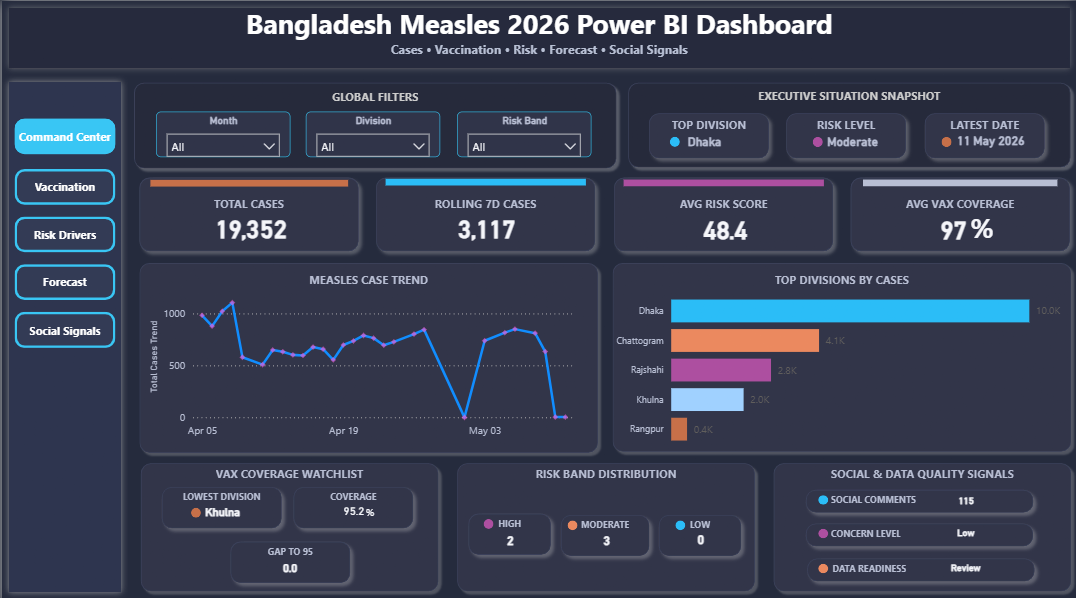

The dashboard page shown, as its layout file describes it:
{"tool":"powerbi","page":{"name":"Command Center","canvas":[1280,720],"ordinal":0},"visuals":[{"type":"shape","box":[150,90,588.9,116.7],"z":0},{"type":"shape","box":[0,0,1279.4,88.2],"z":1000},{"type":"textbox","box":[0,0,1279.4,76.5],"z":2000},{"type":"shape","box":[0,88.8,150,623.8],"z":3000},{"type":"actionButton","box":[15,140,120,42.5],"z":4000},{"type":"actionButton","box":[15,200.6,120,42.5],"z":5000},{"type":"actionButton","box":[15,256.9,120,42.5],"z":6000},{"type":"actionButton","box":[15,313.1,120,42.5],"z":7000},{"type":"actionButton","box":[15,370.6,120,43.1],"z":8000},{"type":"slicer","title":"Month","fields":{"Values":["Dim Date.month_name"]},"box":[183.3,132.2,160,54.4],"z":10000},{"type":"slicer","title":"Division ","fields":{"Values":["Dim Division.division"]},"box":[362.2,132.2,160,54.4],"z":11000},{"type":"slicer","title":"Risk Band","fields":{"Values":["Dim Division.Risk Band"]},"box":[541.1,132.2,160,54.4],"z":12000},{"type":"shape","title":"TOTAL CASES","box":[155,201.7,278.3,105],"z":13000},{"type":"shape","box":[720,201,278.3,105],"z":14000},{"type":"shape","box":[436.7,201,278.3,105],"z":15000},{"type":"shape","box":[1001.7,201,278.3,105],"z":16000},{"type":"shape","box":[176.2,180,235.4,73.8],"z":17000},{"type":"shape","box":[739.2,180,238.5,73.1],"z":18000},{"type":"shape","box":[1024.6,180,231.5,73.1],"z":19000},{"type":"shape","box":[456.9,178.5,238.5,74.6],"z":20000},{"type":"advanceCardE03760C5AB684758B56AA29F9E6C257B","fields":{"mainMeasure":["_Measures.Total Cases"]},"box":[170,243.8,253.1,57.7],"z":21000},{"type":"advanceCardE03760C5AB684758B56AA29F9E6C257B","fields":{"mainMeasure":["_Measures.Rolling 7D Cases"]},"box":[444.6,243.8,263.8,57.7],"z":22000},{"type":"advanceCardE03760C5AB684758B56AA29F9E6C257B","fields":{"mainMeasure":["_Measures.Average Risk Score"]},"box":[730.8,245.4,262.3,56.2],"z":23000},{"type":"advanceCardE03760C5AB684758B56AA29F9E6C257B","fields":{"mainMeasure":["_Measures.Avg Vaccination Coverage"]},"box":[993.1,245.4,278.5,56.2],"z":24000},{"type":"textbox","box":[1130,243.3,91.7,116.7],"z":25000},{"type":"shape","box":[157.1,305,560,240],"z":26000},{"type":"lineChart","fields":{"Category":["Dim Date.date"],"Y":["_Measures.Total Cases Trend"]},"box":[170,332.9,525.7,195.7],"z":27000},{"type":"shape","box":[720,305.7,560,238.6],"z":28000},{"type":"clusteredBarChart","fields":{"Category":["Dim Division.division"],"Y":["_Measures.Total Cases"]},"box":[721.7,328.3,543.3,215],"z":29000},{"type":"shape","box":[738.9,90,541.1,115.6],"z":30000},{"type":"shape","box":[761.1,124.4,160,71.1],"z":31000},{"type":"shape","box":[925.6,124.4,160,71.1],"z":32000},{"type":"shape","box":[1090,124.4,160,71.1],"z":33000},{"type":"advanceCardE03760C5AB684758B56AA29F9E6C257B","fields":{"mainMeasure":["_Measures.Top Division by Cases"]},"box":[795.4,153.8,83.1,28.5],"z":34000},{"type":"advanceCardE03760C5AB684758B56AA29F9E6C257B","fields":{"mainMeasure":["_Measures.Executive Risk Level"]},"box":[960.8,148.5,106.2,38.5],"z":35000},{"type":"advanceCardE03760C5AB684758B56AA29F9E6C257B","fields":{"mainMeasure":["_Measures.Latest Reporting Date"]},"box":[1118.5,140,118.5,52.3],"z":36000},{"type":"shape","box":[795.4,162.3,12,12],"z":37000},{"type":"shape","box":[965.4,161.5,12.3,12.3],"z":38000},{"type":"shape","box":[1118.5,162.3,12.3,12.3],"z":39000},{"type":"shape","box":[158.3,543.3,368.3,166.7],"z":40000},{"type":"shape","box":[535,543,368.3,166.7],"z":41000},{"type":"shape","box":[911.7,543,368.3,166.7],"z":42000},{"type":"shape","box":[182.2,570,160,66.7],"z":43000},{"type":"advanceCardE03760C5AB684758B56AA29F9E6C257B","fields":{"mainMeasure":["_Measures.Lowest Vax Coverage Division"]},"box":[194.4,588.9,135.6,40],"z":44000},{"type":"shape","box":[263.3,635.6,160,66.7],"z":45000},{"type":"shape","box":[337.8,570,160,66.7],"z":46000},{"type":"advanceCardE03760C5AB684758B56AA29F9E6C257B","fields":{"mainMeasure":["_Measures.Lowest Vax Coverage %"]},"box":[354.7,588.8,127.6,37.6],"z":47000},{"type":"textbox","box":[428.2,593.5,47.1,34.7],"z":48000},{"type":"advanceCardE03760C5AB684758B56AA29F9E6C257B","fields":{"mainMeasure":["_Measures.Lowest Coverage Gap to 95"]},"box":[285.9,655.3,114.1,40],"z":49000},{"type":"shape","box":[225.5,603.6,11.8,11.8],"z":50000},{"type":"shape","box":[546.4,601.8,115.5,66.4],"z":51000},{"type":"shape","box":[656.4,602.7,122.7,66.4],"z":52000},{"type":"shape","box":[772.7,602.7,115.5,66.4],"z":53000},{"type":"shape","box":[572.7,617.3,11.8,11.8],"z":54000},{"type":"shape","box":[674,618.2,11.8,11.8],"z":55000},{"type":"shape","box":[800.9,619.1,11.8,11.8],"z":56000},{"type":"advanceCardE03760C5AB684758B56AA29F9E6C257B","fields":{"mainMeasure":["_Measures.High Risk Divisions"]},"box":[558.2,623.6,94.5,38.2],"z":57000},{"type":"advanceCardE03760C5AB684758B56AA29F9E6C257B","fields":{"mainMeasure":["_Measures.Moderate Risk Divisions"]},"box":[670,626.4,100.9,32.7],"z":58000},{"type":"advanceCardE03760C5AB684758B56AA29F9E6C257B","fields":{"mainMeasure":["_Measures.Low Risk Divisions"]},"box":[780.9,625.5,100.9,32.7],"z":59000},{"type":"shape","box":[948.2,573.6,288.2,44.5],"z":60000},{"type":"shape","box":[948,614,288,44.7],"z":61000},{"type":"shape","box":[949.3,655.3,288,44.7],"z":62000},{"type":"shape","box":[971.3,588.7,12,11.3],"z":63000},{"type":"shape","box":[972,628.7,12,11.3],"z":64000},{"type":"shape","box":[972,670,12,11.3],"z":65000},{"type":"advanceCardE03760C5AB684758B56AA29F9E6C257B","fields":{"mainMeasure":["_Measures.Total Social Comments"]},"box":[1075.3,580,146.5,30.6],"z":66000},{"type":"advanceCardE03760C5AB684758B56AA29F9E6C257B","fields":{"mainMeasure":["_Measures.Social Concern Level"]},"box":[1075.3,618.8,146.5,30.6],"z":67000},{"type":"advanceCardE03760C5AB684758B56AA29F9E6C257B","fields":{"mainMeasure":["_Measures.Data Readiness Status"]},"box":[1075.3,660.6,146.5,30.6],"z":68000}]}

Visuals, with their boxes in screenshot pixels (x1, y1, x2, y2), scaled from the page's 1280x720 canvas onto the 1076x598 screenshot:
shape: pyautogui.locateOnScreen(126, 75, 621, 172)
shape: pyautogui.locateOnScreen(0, 0, 1075, 73)
textbox: pyautogui.locateOnScreen(0, 0, 1075, 64)
shape: pyautogui.locateOnScreen(0, 74, 126, 592)
actionButton: pyautogui.locateOnScreen(13, 116, 113, 152)
actionButton: pyautogui.locateOnScreen(13, 167, 113, 202)
actionButton: pyautogui.locateOnScreen(13, 213, 113, 249)
actionButton: pyautogui.locateOnScreen(13, 260, 113, 295)
actionButton: pyautogui.locateOnScreen(13, 308, 113, 344)
"Month" slicer: pyautogui.locateOnScreen(154, 110, 289, 155)
"Division " slicer: pyautogui.locateOnScreen(304, 110, 439, 155)
"Risk Band" slicer: pyautogui.locateOnScreen(455, 110, 589, 155)
"TOTAL CASES" shape: pyautogui.locateOnScreen(130, 168, 364, 255)
shape: pyautogui.locateOnScreen(605, 167, 839, 254)
shape: pyautogui.locateOnScreen(367, 167, 601, 254)
shape: pyautogui.locateOnScreen(842, 167, 1075, 254)
shape: pyautogui.locateOnScreen(148, 150, 346, 211)
shape: pyautogui.locateOnScreen(621, 150, 822, 210)
shape: pyautogui.locateOnScreen(861, 150, 1056, 210)
shape: pyautogui.locateOnScreen(384, 148, 585, 210)
advanceCardE03760C5AB684758B56AA29F9E6C257B - _Measures.Total Cases: pyautogui.locateOnScreen(143, 202, 356, 250)
advanceCardE03760C5AB684758B56AA29F9E6C257B - _Measures.Rolling 7D Cases: pyautogui.locateOnScreen(374, 202, 595, 250)
advanceCardE03760C5AB684758B56AA29F9E6C257B - _Measures.Average Risk Score: pyautogui.locateOnScreen(614, 204, 835, 250)
advanceCardE03760C5AB684758B56AA29F9E6C257B - _Measures.Avg Vaccination Coverage: pyautogui.locateOnScreen(835, 204, 1069, 250)
textbox: pyautogui.locateOnScreen(950, 202, 1027, 299)
shape: pyautogui.locateOnScreen(132, 253, 603, 453)
lineChart - Dim Date.date x _Measures.Total Cases Trend: pyautogui.locateOnScreen(143, 276, 585, 439)
shape: pyautogui.locateOnScreen(605, 254, 1075, 452)
clusteredBarChart - Dim Division.division x _Measures.Total Cases: pyautogui.locateOnScreen(607, 273, 1063, 451)
shape: pyautogui.locateOnScreen(621, 75, 1075, 171)
shape: pyautogui.locateOnScreen(640, 103, 774, 162)
shape: pyautogui.locateOnScreen(778, 103, 913, 162)
shape: pyautogui.locateOnScreen(916, 103, 1051, 162)
advanceCardE03760C5AB684758B56AA29F9E6C257B - _Measures.Top Division by Cases: pyautogui.locateOnScreen(669, 128, 738, 151)
advanceCardE03760C5AB684758B56AA29F9E6C257B - _Measures.Executive Risk Level: pyautogui.locateOnScreen(808, 123, 897, 155)
advanceCardE03760C5AB684758B56AA29F9E6C257B - _Measures.Latest Reporting Date: pyautogui.locateOnScreen(940, 116, 1040, 160)
shape: pyautogui.locateOnScreen(669, 135, 679, 145)
shape: pyautogui.locateOnScreen(812, 134, 822, 144)
shape: pyautogui.locateOnScreen(940, 135, 951, 145)
shape: pyautogui.locateOnScreen(133, 451, 443, 590)
shape: pyautogui.locateOnScreen(450, 451, 759, 589)
shape: pyautogui.locateOnScreen(766, 451, 1075, 589)
shape: pyautogui.locateOnScreen(153, 473, 288, 529)
advanceCardE03760C5AB684758B56AA29F9E6C257B - _Measures.Lowest Vax Coverage Division: pyautogui.locateOnScreen(163, 489, 277, 522)
shape: pyautogui.locateOnScreen(221, 528, 356, 583)
shape: pyautogui.locateOnScreen(284, 473, 418, 529)
advanceCardE03760C5AB684758B56AA29F9E6C257B - _Measures.Lowest Vax Coverage %: pyautogui.locateOnScreen(298, 489, 405, 520)
textbox: pyautogui.locateOnScreen(360, 493, 400, 522)
advanceCardE03760C5AB684758B56AA29F9E6C257B - _Measures.Lowest Coverage Gap to 95: pyautogui.locateOnScreen(240, 544, 336, 577)
shape: pyautogui.locateOnScreen(190, 501, 199, 511)
shape: pyautogui.locateOnScreen(459, 500, 556, 555)
shape: pyautogui.locateOnScreen(552, 501, 655, 556)
shape: pyautogui.locateOnScreen(650, 501, 747, 556)
shape: pyautogui.locateOnScreen(481, 513, 491, 523)
shape: pyautogui.locateOnScreen(567, 513, 577, 523)
shape: pyautogui.locateOnScreen(673, 514, 683, 524)
advanceCardE03760C5AB684758B56AA29F9E6C257B - _Measures.High Risk Divisions: pyautogui.locateOnScreen(469, 518, 549, 550)
advanceCardE03760C5AB684758B56AA29F9E6C257B - _Measures.Moderate Risk Divisions: pyautogui.locateOnScreen(563, 520, 648, 547)
advanceCardE03760C5AB684758B56AA29F9E6C257B - _Measures.Low Risk Divisions: pyautogui.locateOnScreen(656, 520, 741, 547)
shape: pyautogui.locateOnScreen(797, 476, 1039, 513)
shape: pyautogui.locateOnScreen(797, 510, 1039, 547)
shape: pyautogui.locateOnScreen(798, 544, 1040, 581)
shape: pyautogui.locateOnScreen(816, 489, 827, 498)
shape: pyautogui.locateOnScreen(817, 522, 827, 532)
shape: pyautogui.locateOnScreen(817, 556, 827, 566)
advanceCardE03760C5AB684758B56AA29F9E6C257B - _Measures.Total Social Comments: pyautogui.locateOnScreen(904, 482, 1027, 507)
advanceCardE03760C5AB684758B56AA29F9E6C257B - _Measures.Social Concern Level: pyautogui.locateOnScreen(904, 514, 1027, 539)
advanceCardE03760C5AB684758B56AA29F9E6C257B - _Measures.Data Readiness Status: pyautogui.locateOnScreen(904, 549, 1027, 574)
